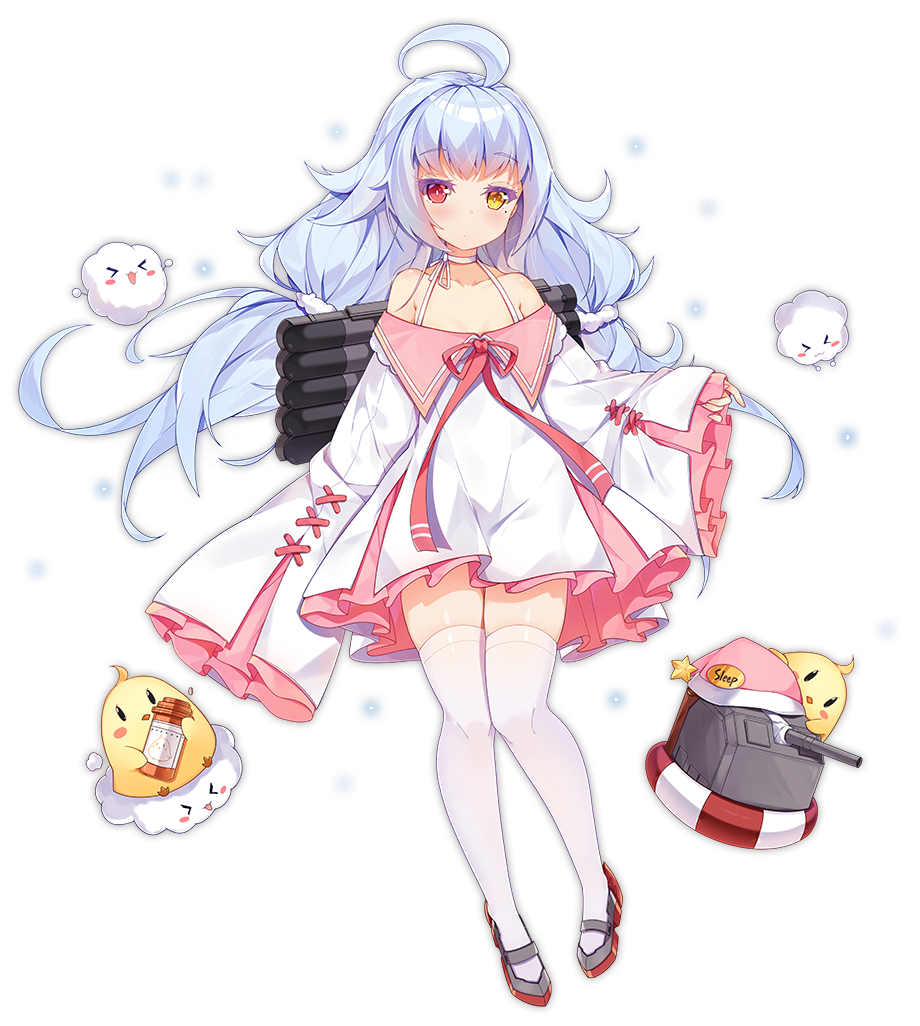person: (251, 65, 682, 834)
